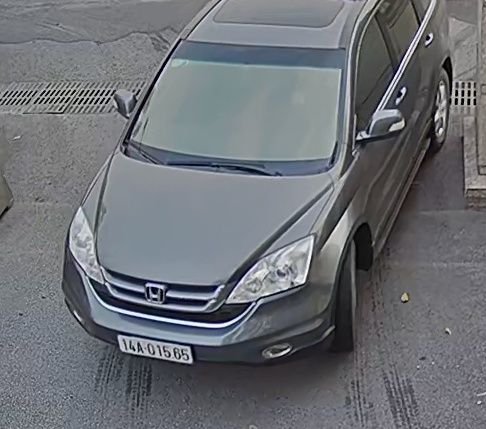vehicle plate: (114, 329, 197, 369)
